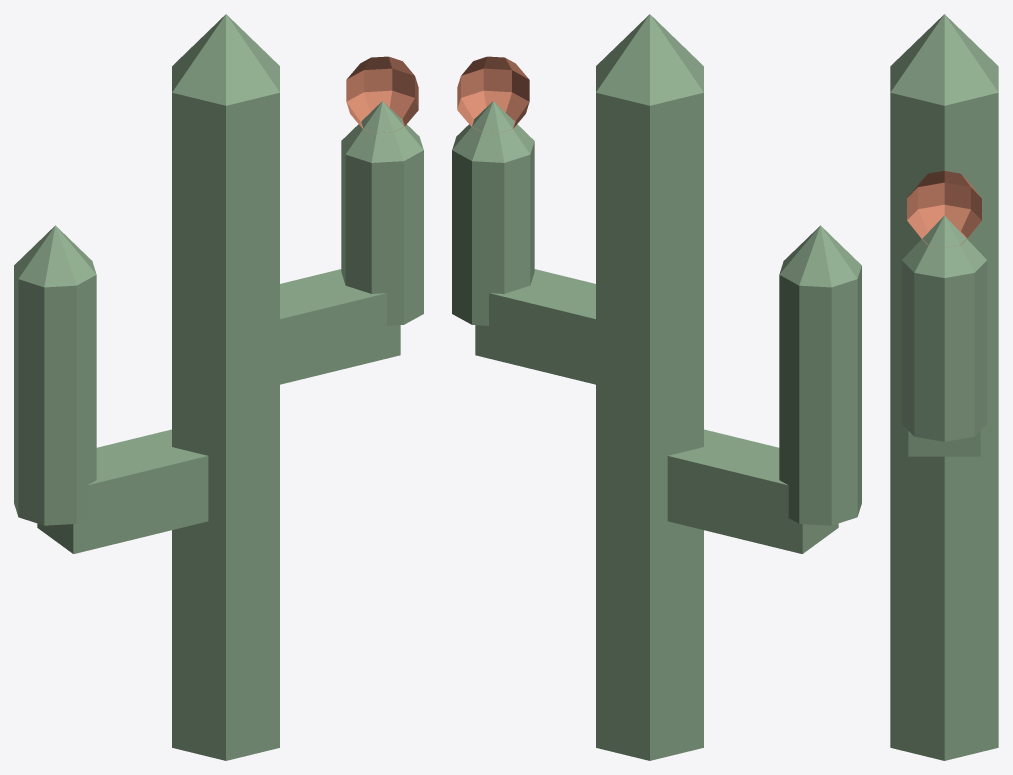
The model's file is frontier-saguaro-cactus.glb.
3 renders of one model, left to right at view 1: azimuth 30°, elevation 25°; view 2: azimuth 150°, elevation 25°; view 3: azimuth 270°, elevation 25°, orthographic.
Visible parts, largest first — view 1: frontier-post-saguaro; view 2: frontier-post-saguaro; view 3: frontier-post-saguaro.
Boxes of the visible parts, x1=… form: frontier-post-saguaro: x1=14, y1=14, x2=423, y2=760; frontier-post-saguaro: x1=452, y1=14, x2=861, y2=760; frontier-post-saguaro: x1=890, y1=14, x2=998, y2=760.
Size of the model in its own units: 1.41 by 2.42 by 0.3291.
